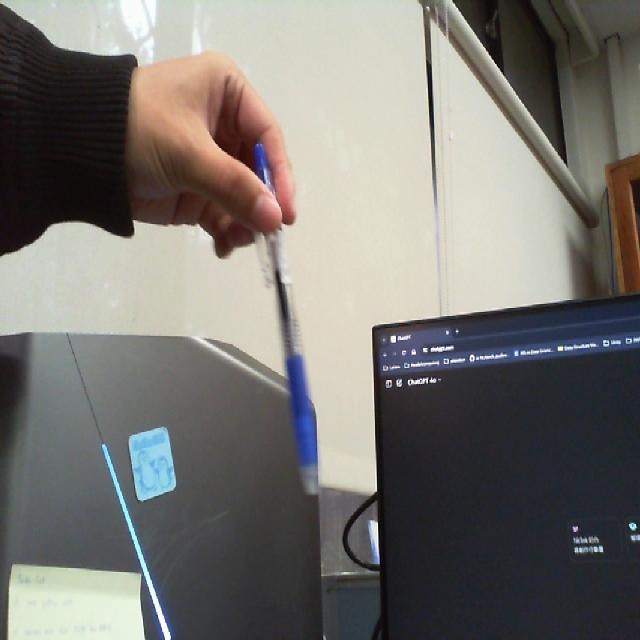Pen: (247, 137, 327, 506)
